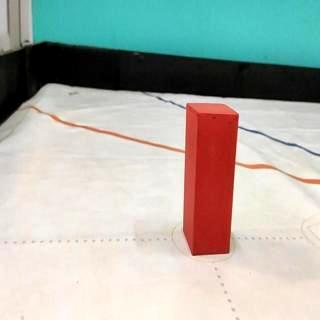redbox: (184, 102, 240, 256)
